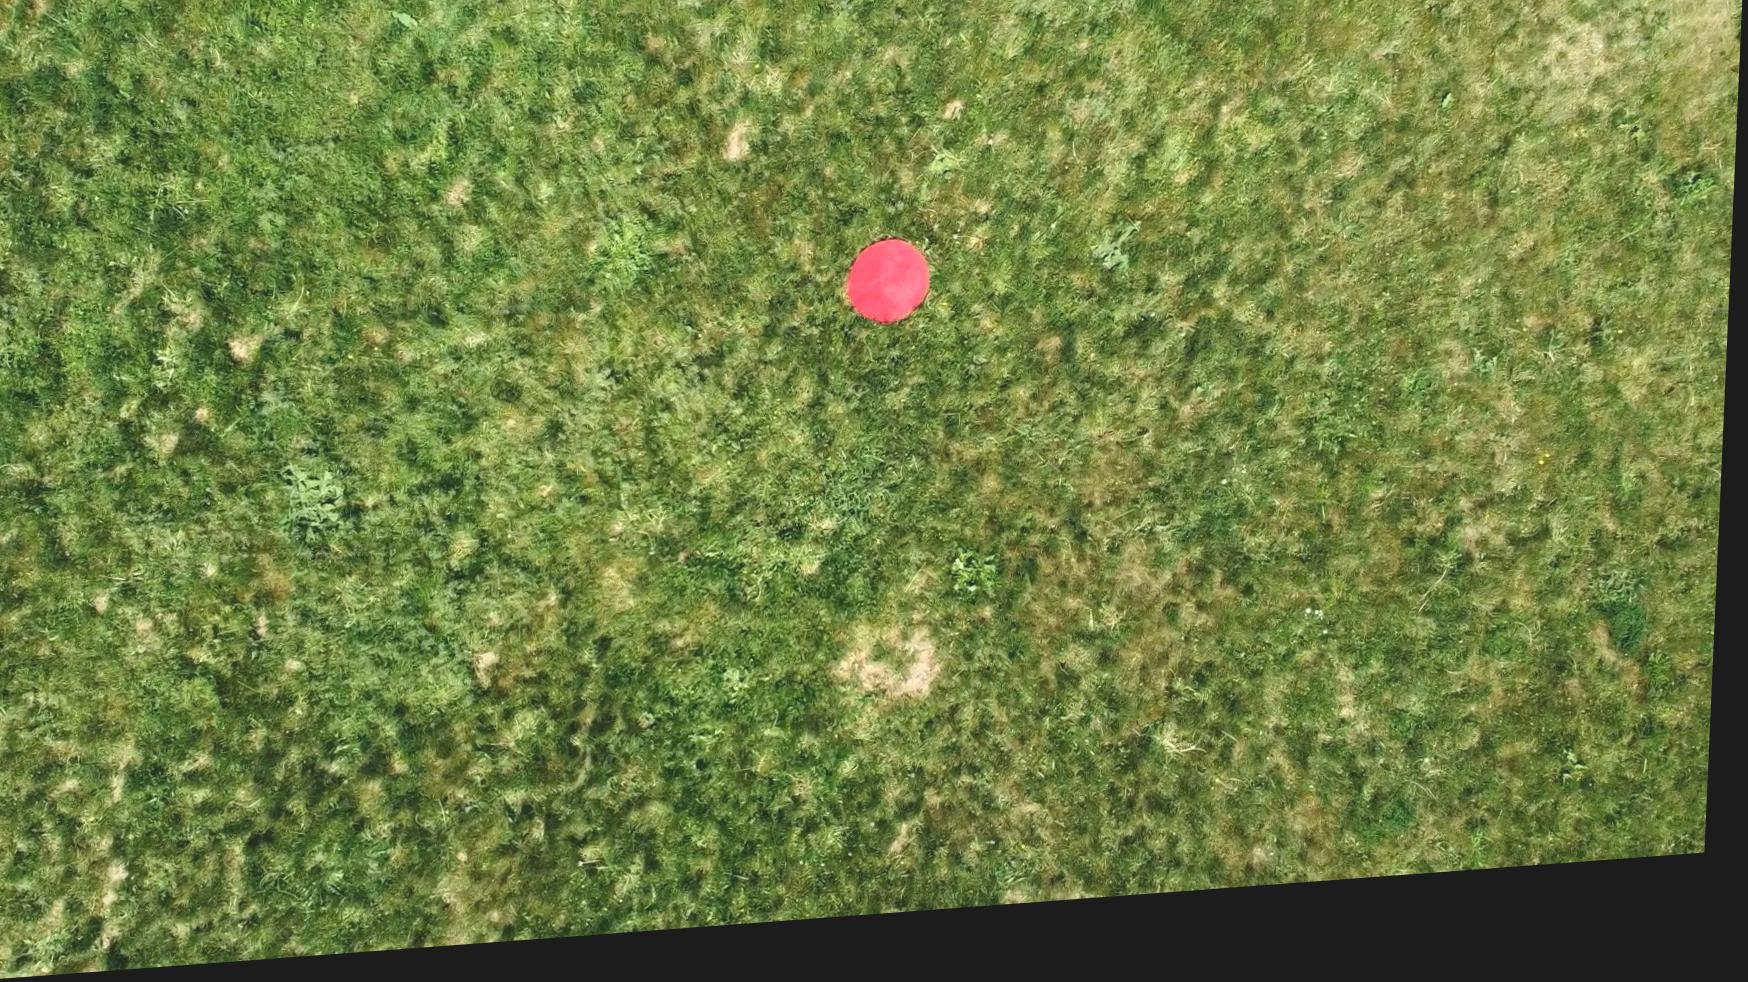Red: (846, 249, 938, 343)
